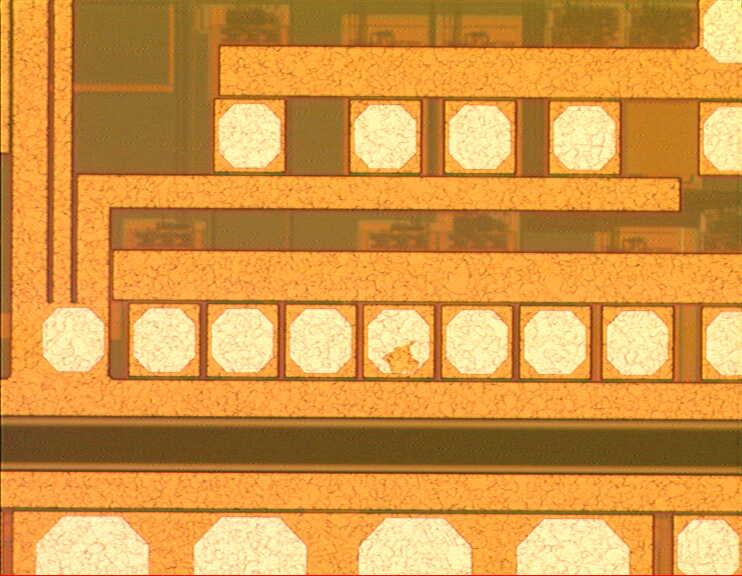BLOCK ETCH: (385, 342, 421, 374)
